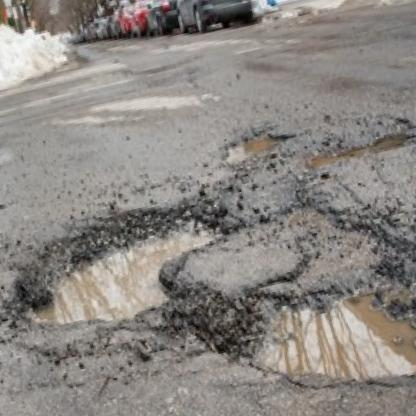pothole: (0, 183, 247, 361), (217, 220, 416, 416), (295, 117, 416, 175), (215, 119, 297, 172)
